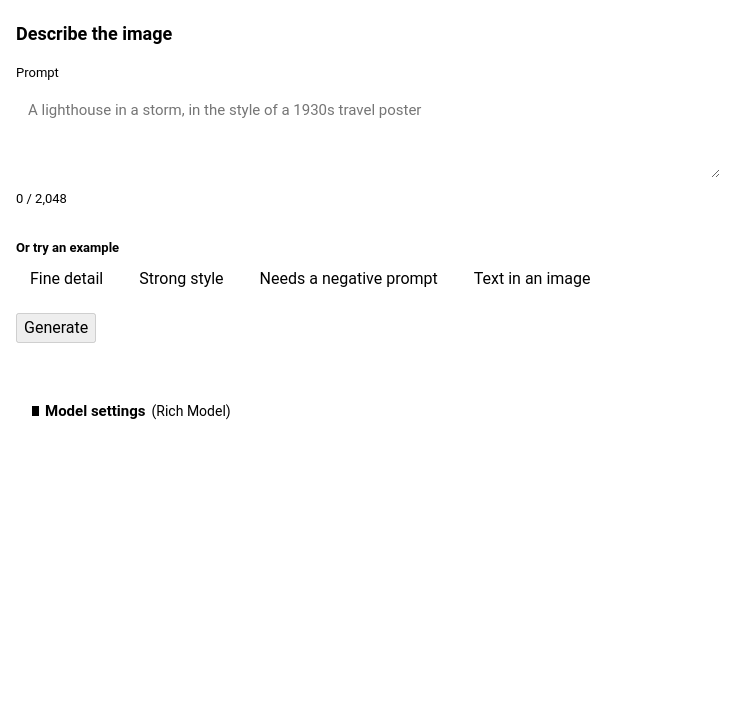
Test case: the reorganised layout › keeps every control of the selected model available once expanded
Click the heading "Model settings (Rich Model)" at (138, 411), box [45,402,231,420]
(page scrolled)
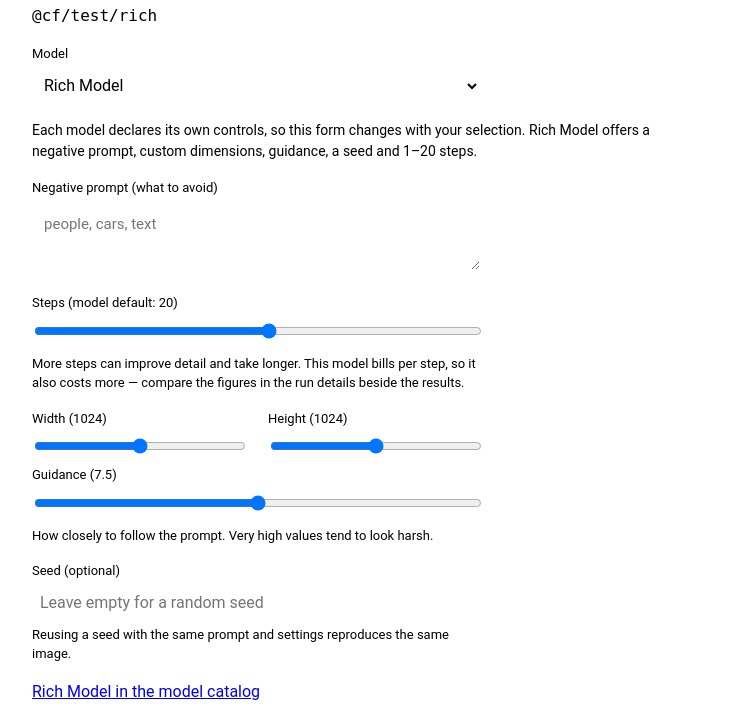
Check: the dropdown with id "image-model" is shown, box [32,68,480,104]
Check: the text box with id "image-negative" is shown, box [32,201,480,270]
Check: the slider with id "image-steps" is shown, box [34,318,482,342]
